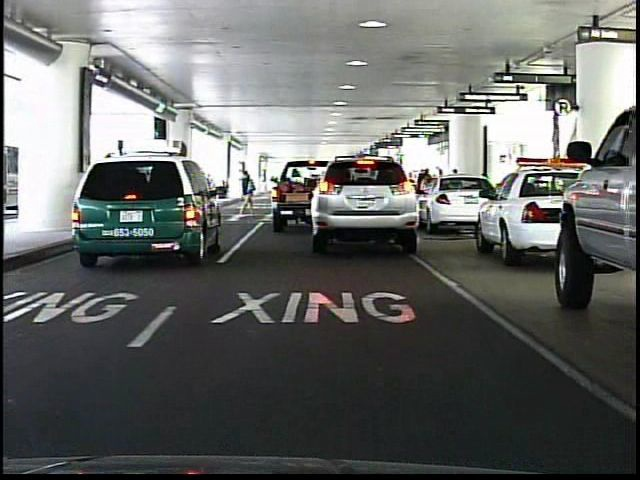person: (237, 168, 261, 224)
